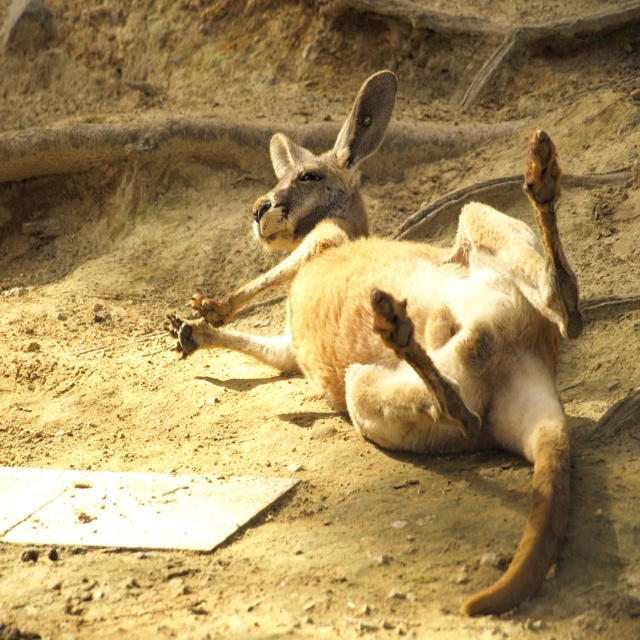Kangaroo: (168, 65, 580, 620)
